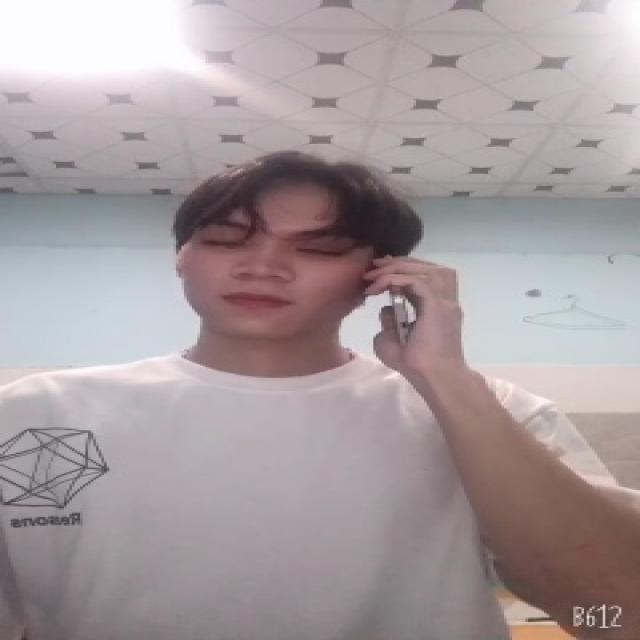Phone: (360, 254, 420, 360)
